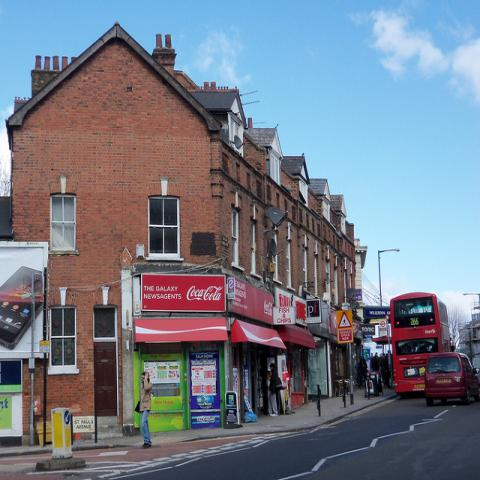bus: (390, 292, 450, 395)
car: (424, 352, 480, 410)
